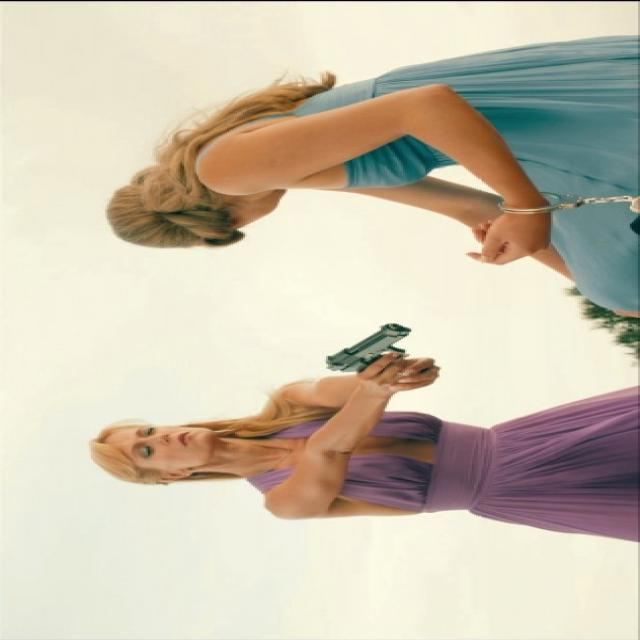weapons: (306, 315, 454, 385)
